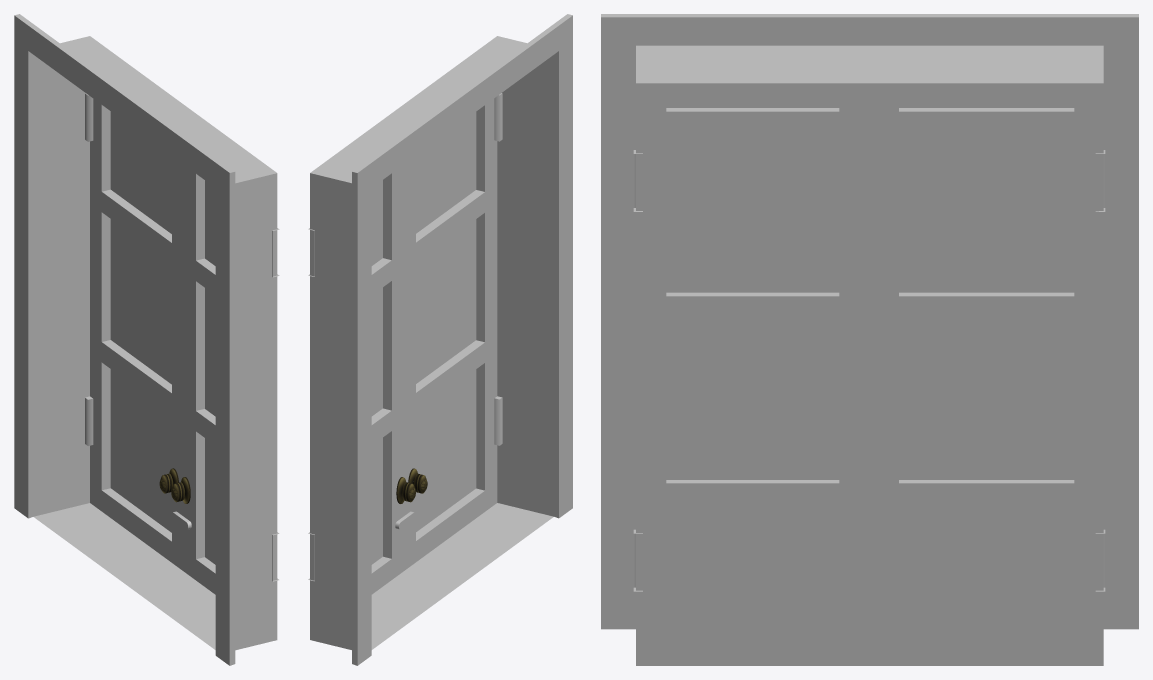
File: streets_windows_wood_pannel_transparent.DAE
The picture shows the model from 3 angles, left to right: view 1: azimuth 30°, elevation 25°; view 2: azimuth 150°, elevation 25°; view 3: azimuth 270°, elevation 25°; orthographic projection. The views are drawn at different scales.
Visible parts, largest first — view 1: Object007, Object008, Box009, Object010; view 2: Object007, Object008, Box009, Object010; view 3: Object008, Object007, Box009.
Boxes of the visible parts, x1=… form: Object007: x1=14, y1=14, x2=277, y2=665; Object008: x1=110, y1=111, x2=215, y2=564; Box009: x1=85, y1=93, x2=279, y2=581; Object010: x1=159, y1=468, x2=190, y2=503; Object007: x1=310, y1=14, x2=572, y2=665; Object008: x1=371, y1=112, x2=476, y2=564; Box009: x1=308, y1=93, x2=502, y2=581; Object010: x1=396, y1=468, x2=427, y2=503; Object008: x1=664, y1=111, x2=1077, y2=646; Object007: x1=601, y1=14, x2=1138, y2=665; Box009: x1=633, y1=150, x2=1105, y2=591.
Bounding box in the file's own units: 0.4352 × 2.3 × 2.9.
